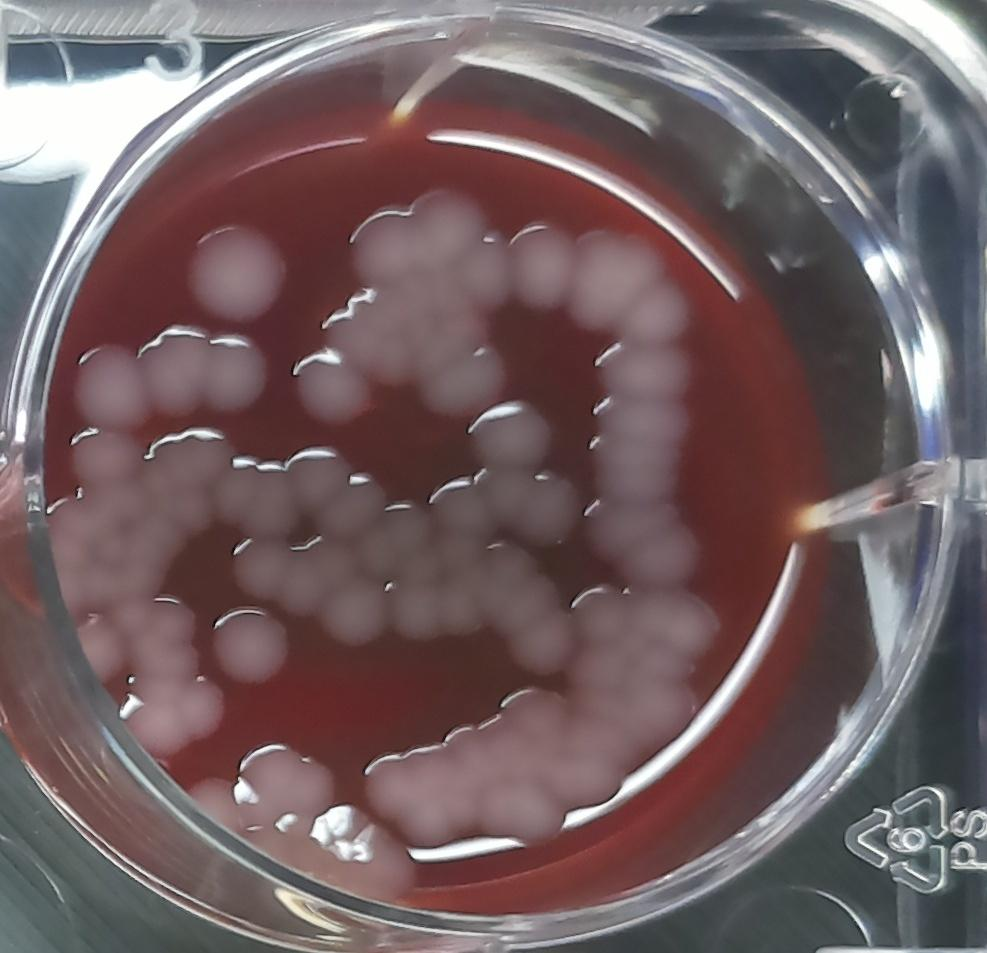valgino: (588, 332, 699, 504), (178, 219, 288, 324), (287, 338, 380, 431), (200, 604, 298, 691), (461, 393, 555, 470)
